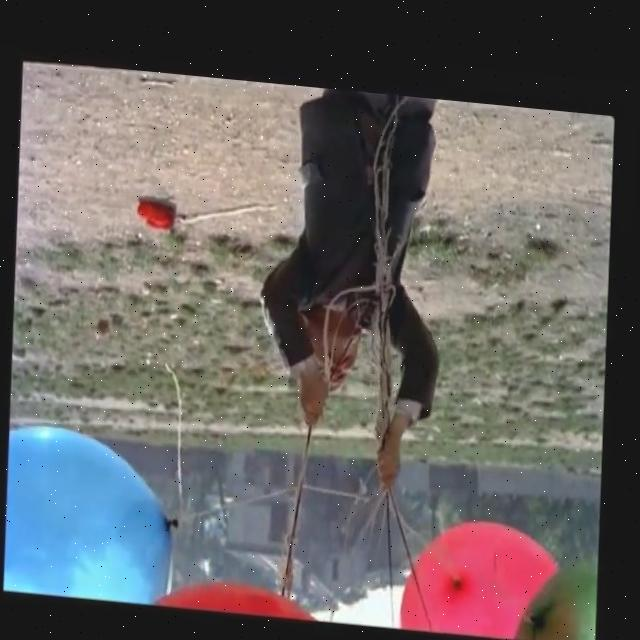balloon: (7, 421, 180, 604), (404, 502, 564, 633), (522, 538, 600, 638), (158, 570, 322, 617)
